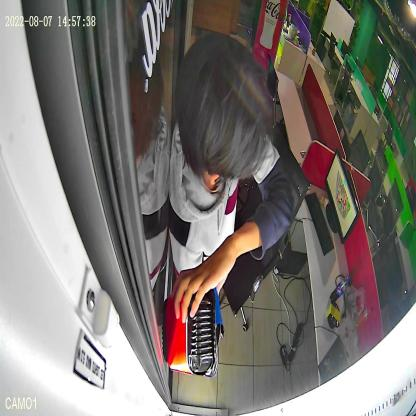blue: (210, 283, 226, 353)
red: (162, 288, 219, 378)
